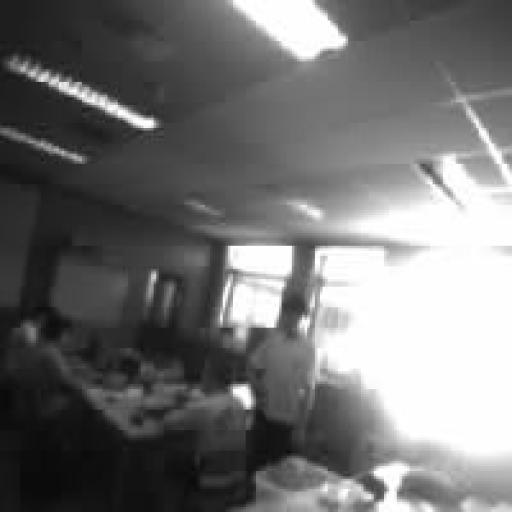human: (249, 295, 317, 476), (164, 356, 245, 488), (16, 319, 86, 424), (6, 308, 52, 382)
